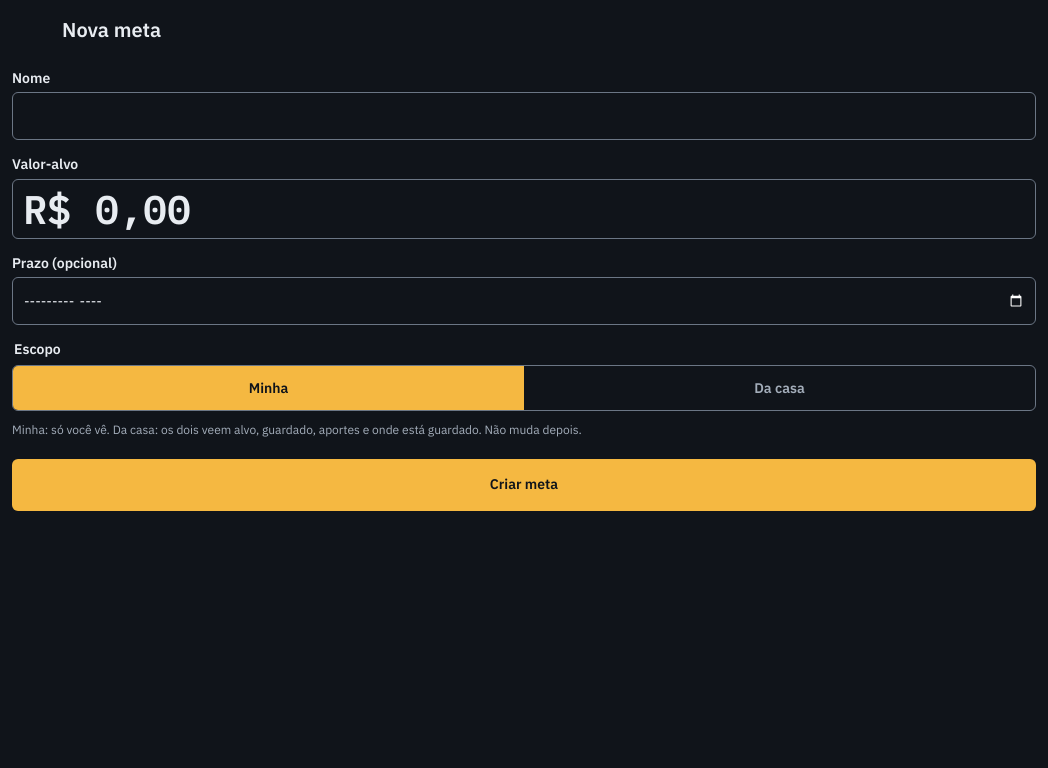
T12 nova meta › alvo zero mostra o erro no campo e põe o foco nele, sem enviar
In the field labelled "Nome": [524, 116] box [12, 92, 1036, 140], type "Carro novo"
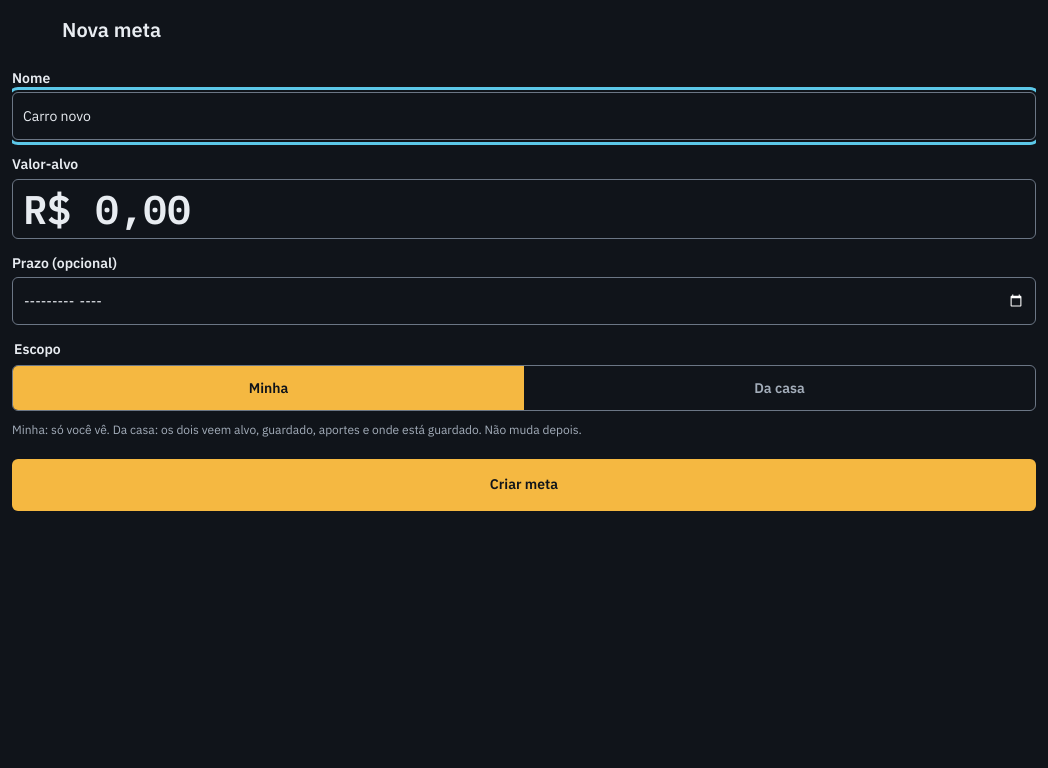
In the field labelled "Prazo (opcional)": [524, 301] box [12, 277, 1036, 325], type "2028-12"
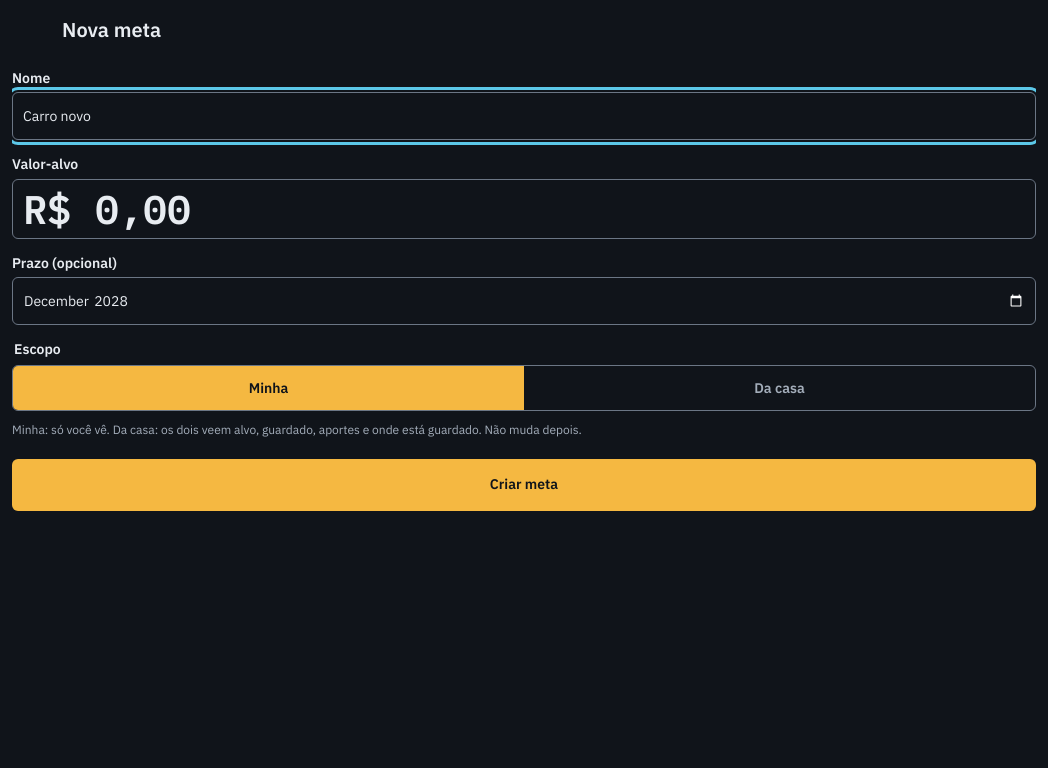
Click the button "Criar meta": [524, 485] box [12, 459, 1036, 511]
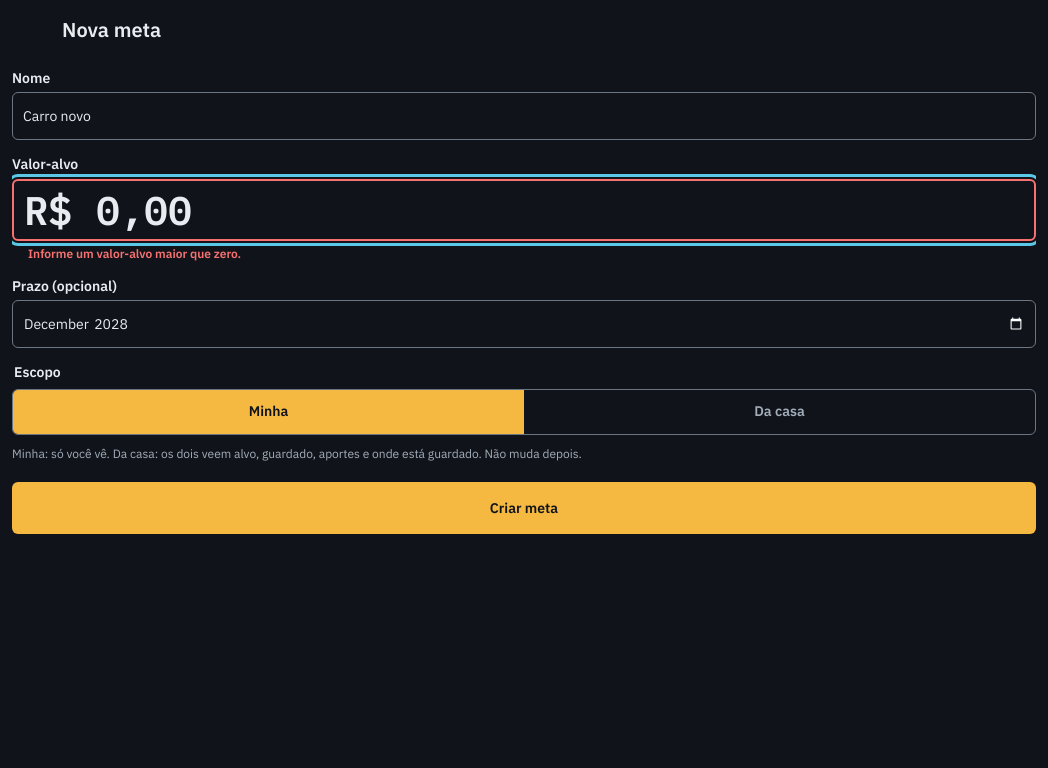
Expected: the text "Informe um valor-alvo maior que zero." is shown, [12, 246, 241, 261]
